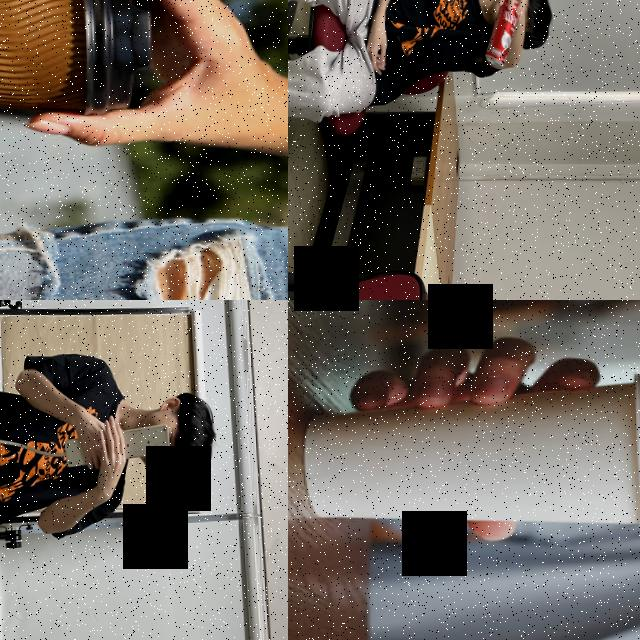can: (481, 0, 523, 68)
cup: (293, 369, 640, 542), (0, 0, 155, 122)
